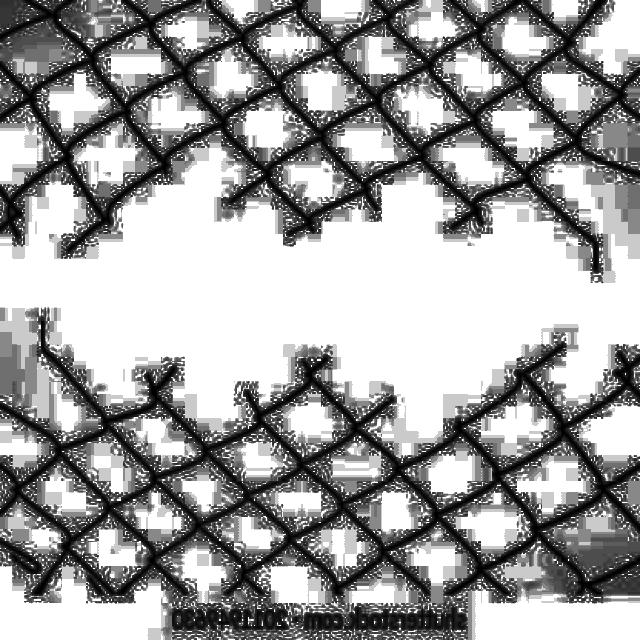anomaly-fence: (0, 119, 636, 500)
